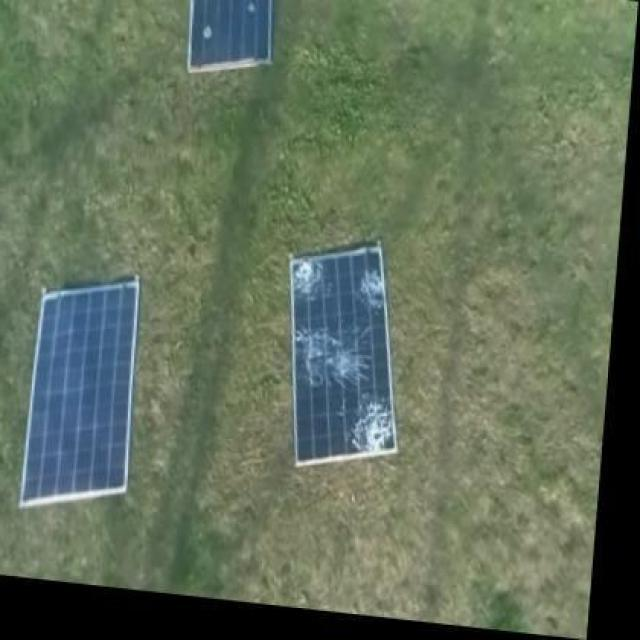cracked: (284, 241, 402, 471)
soiled: (180, 2, 274, 78)
